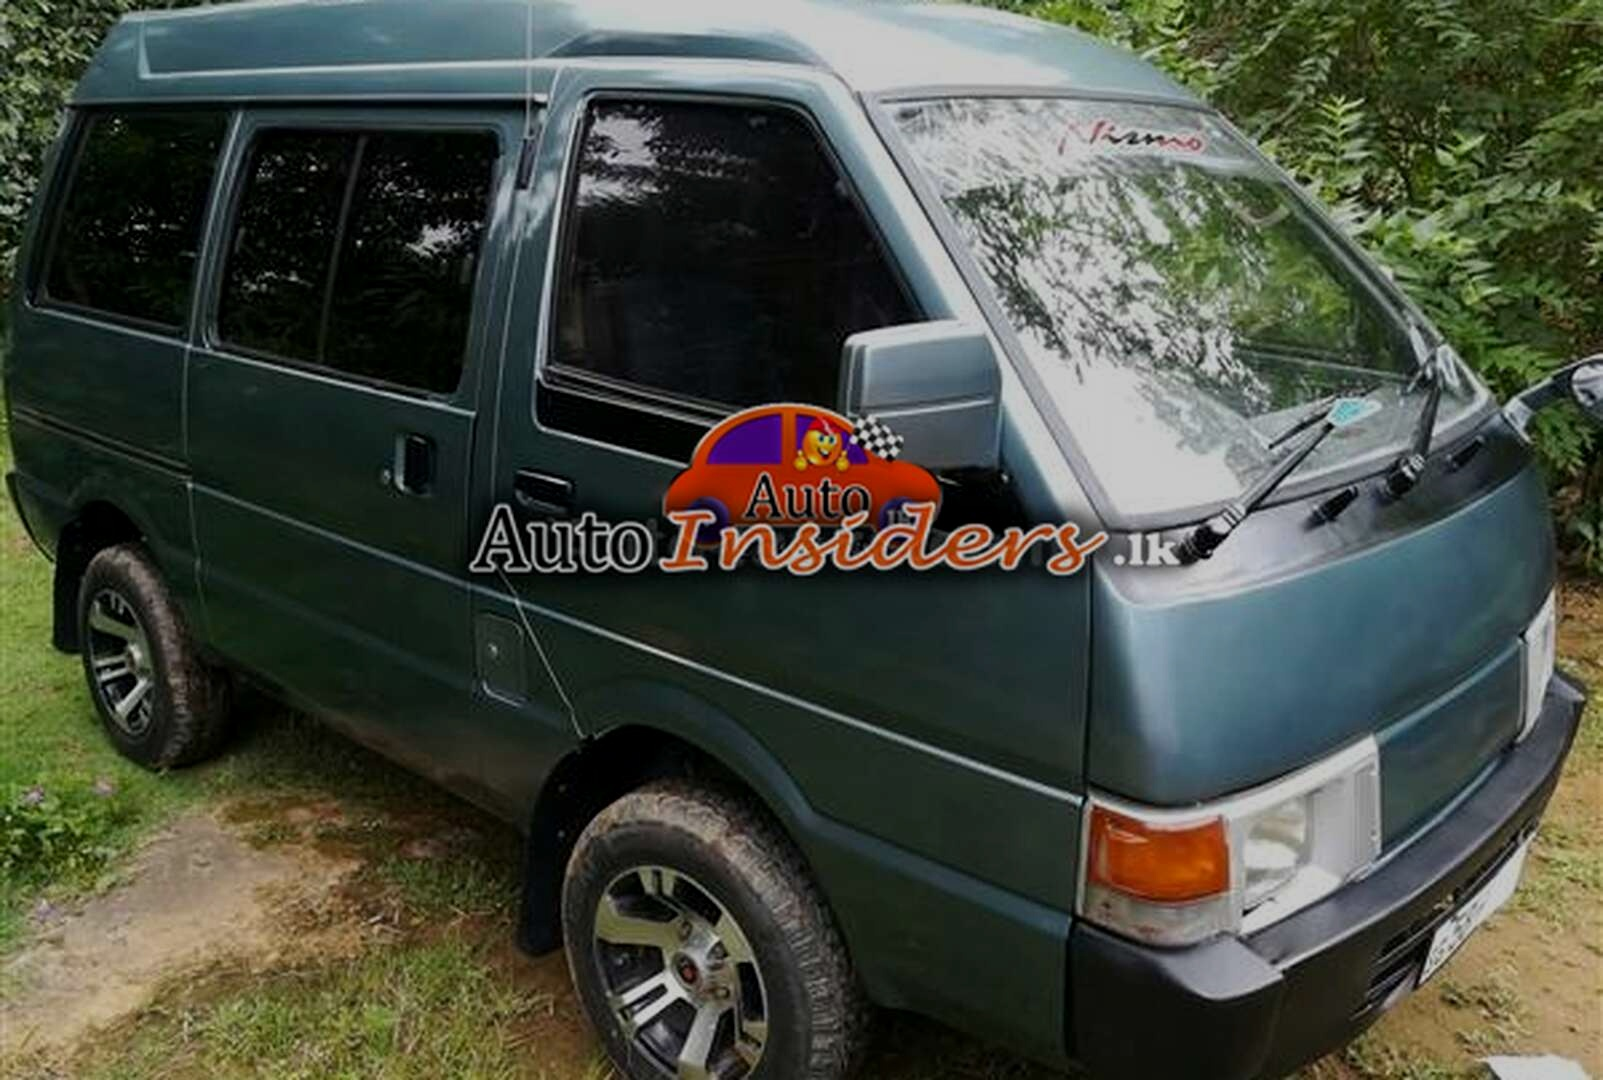van: (11, 0, 1603, 1050)
